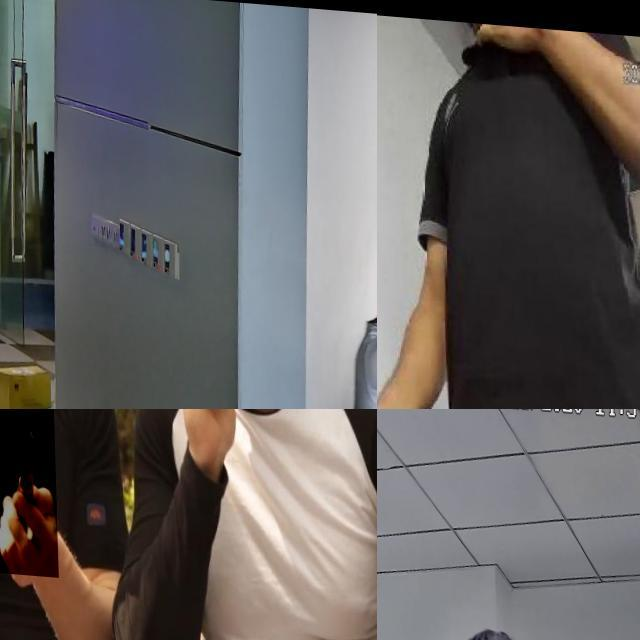-: (0, 409, 55, 574)
